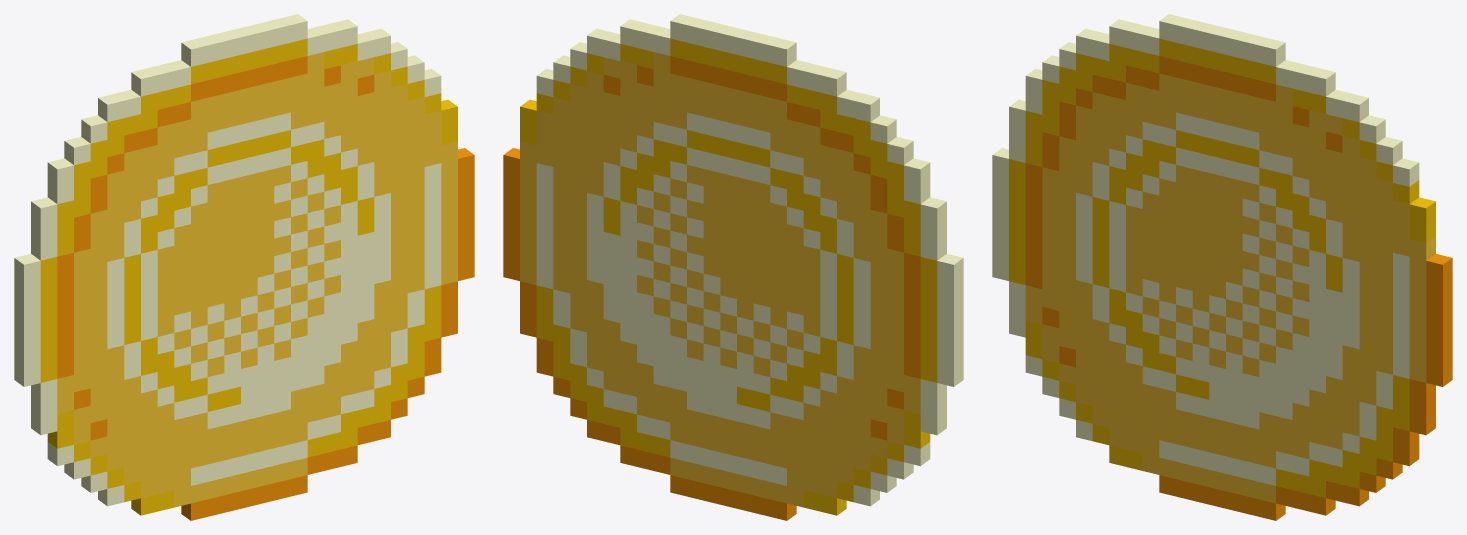
File: I_GoldCoin.fbx
The picture shows the model from 3 angles, left to right: view 1: azimuth 30°, elevation 25°; view 2: azimuth 150°, elevation 25°; view 3: azimuth 330°, elevation 25°; orthographic projection.
Visible parts, largest first — view 1: Default; view 2: Default; view 3: Default.
Boxes of the visible parts, box(x1,y1,x2,y2) form: Default: box(14, 14, 474, 520); Default: box(503, 14, 963, 520); Default: box(992, 14, 1452, 520).
Size of the model in its own units: 27 by 27 by 1.
1 material, 1 textured.
